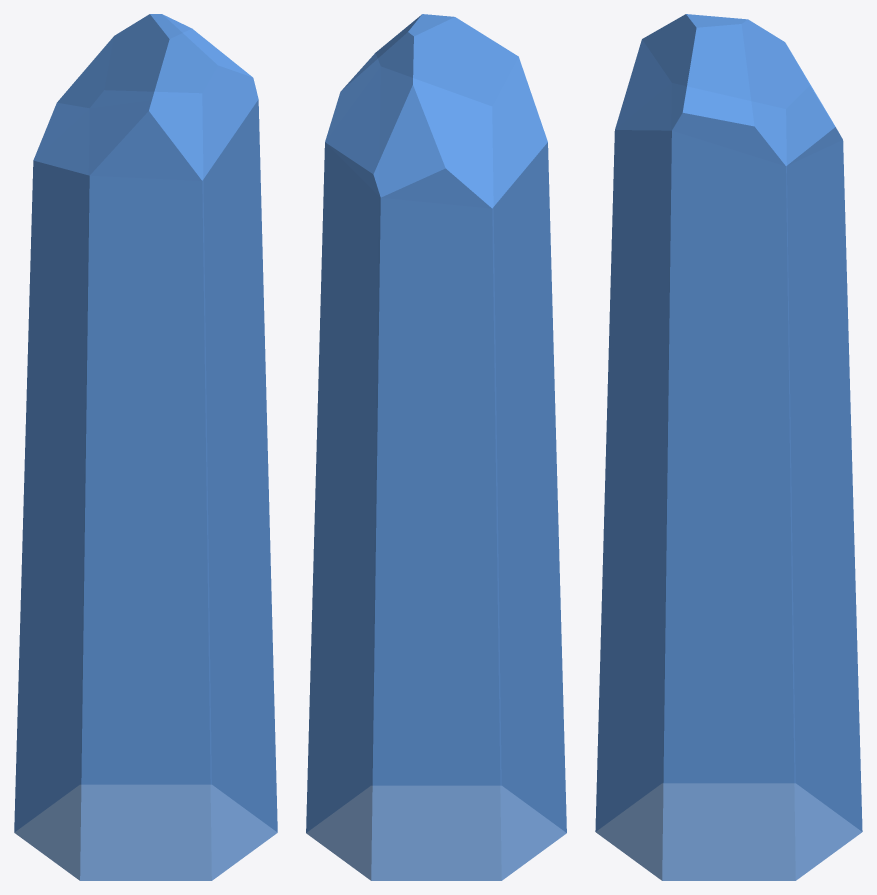
The model's file is Crystal_m_01.fbx.
3 views of the same model, side by side, from view 1: azimuth 30°, elevation 25°; view 2: azimuth 150°, elevation 25°; view 3: azimuth 270°, elevation 25° (orthographic). The views are drawn at different scales.
Visible parts, largest first — view 1: Crystal_m_01; view 2: Crystal_m_01; view 3: Crystal_m_01.
Part boxes in pixels (x1,y1,x2,y2): Crystal_m_01: (14,14,277,880); Crystal_m_01: (306,14,566,880); Crystal_m_01: (595,14,862,880).
Size of the model in its own units: 33.96 by 133 by 39.21.
